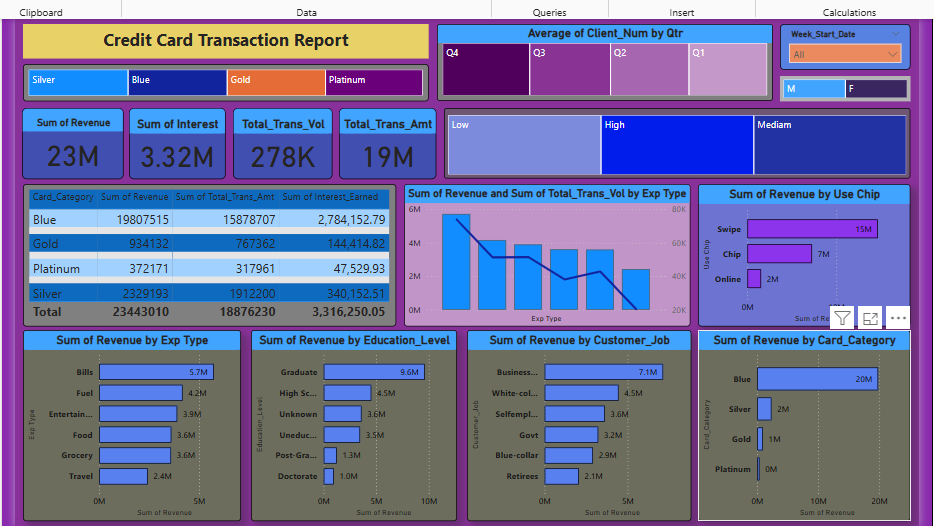

The page's visual inventory and layout, read from the dashboard file:
{"tool":"powerbi","page":{"name":"Credit Card Transaction Report","canvas":[1280,720],"ordinal":1},"visuals":[{"type":"textbox","box":[10.1,36,491,61.9],"z":0},{"type":"lineStackedColumnComboChart","fields":{"Y":["Sum(credit_card.Revenue)"],"Y2":["Sum(credit_card.Total_Trans_Vol)"],"Category":["credit_card.Exp Type"]},"box":[518.4,243.4,442.1,227.5],"z":1000},{"type":"barChart","fields":{"Category":["credit_card.Exp Type"],"Y":["Sum(credit_card.Revenue)"]},"box":[9.7,471.1,289.1,250.2],"z":2000},{"type":"barChart","fields":{"Category":["customer.Education_Level"],"Y":["Sum(credit_card.Revenue)"]},"box":[325.4,483.8,302.4,237.6],"z":3000},{"type":"barChart","fields":{"Category":["customer.Customer_Job"],"Y":["Sum(credit_card.Revenue)"]},"box":[640,493.8,302.1,227.4],"z":4000},{"type":"barChart","fields":{"Category":["credit_card.Card_Category"],"Y":["Sum(credit_card.Revenue)"]},"box":[968.1,493.8,311.9,227.4],"z":5000},{"type":"barChart","fields":{"Category":["credit_card.Use Chip"],"Y":["Sum(credit_card.Revenue)"]},"box":[968.1,243.7,311.9,227.4],"z":6000},{"type":"tableEx","fields":{"Values":["credit_card.Card_Category","Sum(credit_card.Revenue)","Sum(credit_card.Total_Trans_Amt)","Sum(credit_card.Interest_Earned)"]},"box":[0,257.8,518.4,198.7],"z":7000},{"type":"card","fields":{"Values":["Sum(credit_card.Revenue)"]},"box":[10.1,144,139.7,113.8],"z":8000},{"type":"card","fields":{"Values":["Sum(credit_card.Total_Trans_Amt)"]},"box":[299.5,144,136.8,113.8],"z":9000},{"type":"card","fields":{"Values":["Sum(credit_card.Interest_Earned)"]},"box":[149.8,144,149.8,113.8],"z":10000},{"type":"card","fields":{"Values":["Sum(credit_card.Total_Trans_Vol)"]},"box":[436.3,144,129.6,99.4],"z":11000},{"type":"slicer","fields":{"Values":["credit_card.Week_Start_Date"]},"box":[1046.9,11.5,233.3,64.8],"z":12000},{"type":"treemap","fields":{"Group":["credit_card.Qtr"],"Values":["Avg(credit_card.Client_Num)"]},"box":[565.9,0,469.4,76.3],"z":13000},{"type":"treemap","fields":{"Values":["Avg(credit_card.Client_Num)"],"Group":["customer.Gender"]},"box":[1046.9,76.3,233.3,79.2],"z":14000},{"type":"treemap","fields":{"Values":["Avg(credit_card.Client_Num)"],"Group":["credit_card.Card_Category"]},"box":[1012.3,158.4,267.8,53.3],"z":15000},{"type":"treemap","fields":{"Values":["Avg(credit_card.Client_Num)"],"Group":["customer.IncomeGroup"]},"box":[627.8,155.5,362.9,56.2],"z":16000}]}

Visuals, with their boxes on the page's 1280x720 design canvas (x1, y1, x2, y2). These are canvas units, not pixel positions in the 934x526 screenshot, which may show the page scaled, cropped or inside an application window:
textbox: crop(10, 36, 501, 98)
lineStackedColumnComboChart - Sum(credit_card.Revenue) x Sum(credit_card.Total_Trans_Vol): crop(518, 243, 960, 471)
barChart - credit_card.Exp Type x Sum(credit_card.Revenue): crop(10, 471, 299, 721)
barChart - customer.Education_Level x Sum(credit_card.Revenue): crop(325, 484, 628, 721)
barChart - customer.Customer_Job x Sum(credit_card.Revenue): crop(640, 494, 942, 721)
barChart - credit_card.Card_Category x Sum(credit_card.Revenue): crop(968, 494, 1280, 721)
barChart - credit_card.Use Chip x Sum(credit_card.Revenue): crop(968, 244, 1280, 471)
tableEx - credit_card.Card_Category x Sum(credit_card.Revenue): crop(0, 258, 518, 456)
card - Sum(credit_card.Revenue): crop(10, 144, 150, 258)
card - Sum(credit_card.Total_Trans_Amt): crop(300, 144, 436, 258)
card - Sum(credit_card.Interest_Earned): crop(150, 144, 300, 258)
card - Sum(credit_card.Total_Trans_Vol): crop(436, 144, 566, 243)
slicer - credit_card.Week_Start_Date: crop(1047, 12, 1280, 76)
treemap - credit_card.Qtr x Avg(credit_card.Client_Num): crop(566, 0, 1035, 76)
treemap - Avg(credit_card.Client_Num) x customer.Gender: crop(1047, 76, 1280, 156)
treemap - Avg(credit_card.Client_Num) x credit_card.Card_Category: crop(1012, 158, 1280, 212)
treemap - Avg(credit_card.Client_Num) x customer.IncomeGroup: crop(628, 156, 991, 212)
